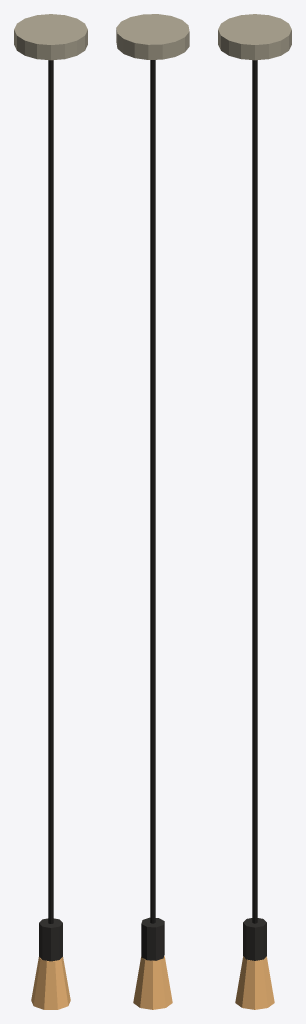
File: bulb-pendant.glb
3 views of the same model, side by side, from view 1: azimuth 90°, elevation 25°; view 2: azimuth 150°, elevation 25°; view 3: azimuth 270°, elevation 25° (orthographic).
Visible parts, largest first — view 1: rubber, plastic-light, emissive-warm, plastic-dark; view 2: rubber, plastic-light, emissive-warm, plastic-dark; view 3: rubber, plastic-light, emissive-warm, plastic-dark.
Boxes of the visible parts, <box> form: rubber: <box>48,60,53,923</box>; plastic-light: <box>14,14,87,60</box>; emissive-warm: <box>31,957,70,1009</box>; plastic-dark: <box>39,918,62,961</box>; rubber: <box>150,60,155,923</box>; plastic-light: <box>116,14,189,59</box>; emissive-warm: <box>133,956,172,1009</box>; plastic-dark: <box>141,917,164,960</box>; rubber: <box>252,60,257,923</box>; plastic-light: <box>218,14,291,60</box>; emissive-warm: <box>235,956,274,1009</box>; plastic-dark: <box>243,918,266,960</box>.
Size of the model in its own units: 0.11 by 1.6 by 0.11.
